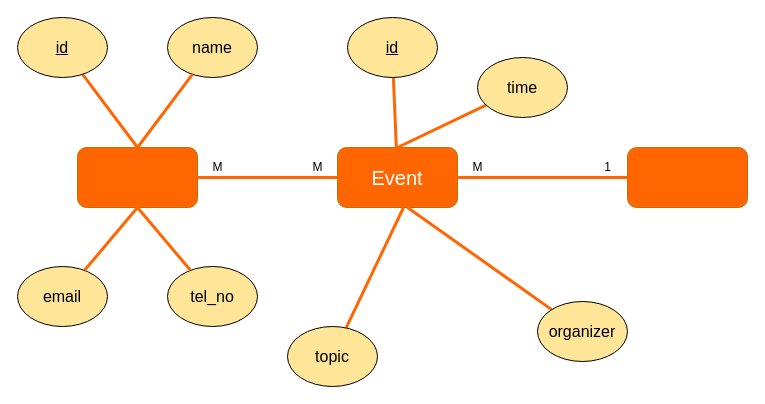
Image size: 765x404. Some labels were removed from this diagram. Here are the shapes that lost their labels. From the top down, the centre of each, then its label:
At (137,177): "Participant".
At (687,177): "Venue".
